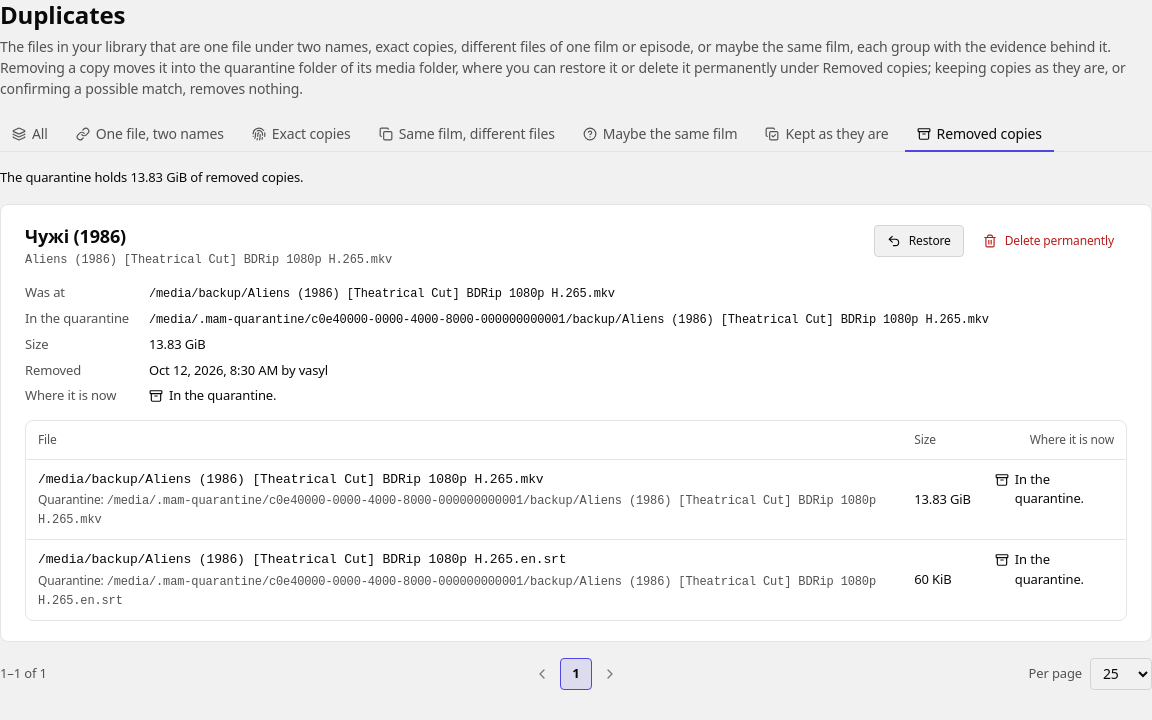
Test: DuplicatesPage Removed copies › puts the copy back by its id, says so above the list, and asks for what it changed again
Click the button "Restore" at (919, 240), box [874, 224, 964, 256]
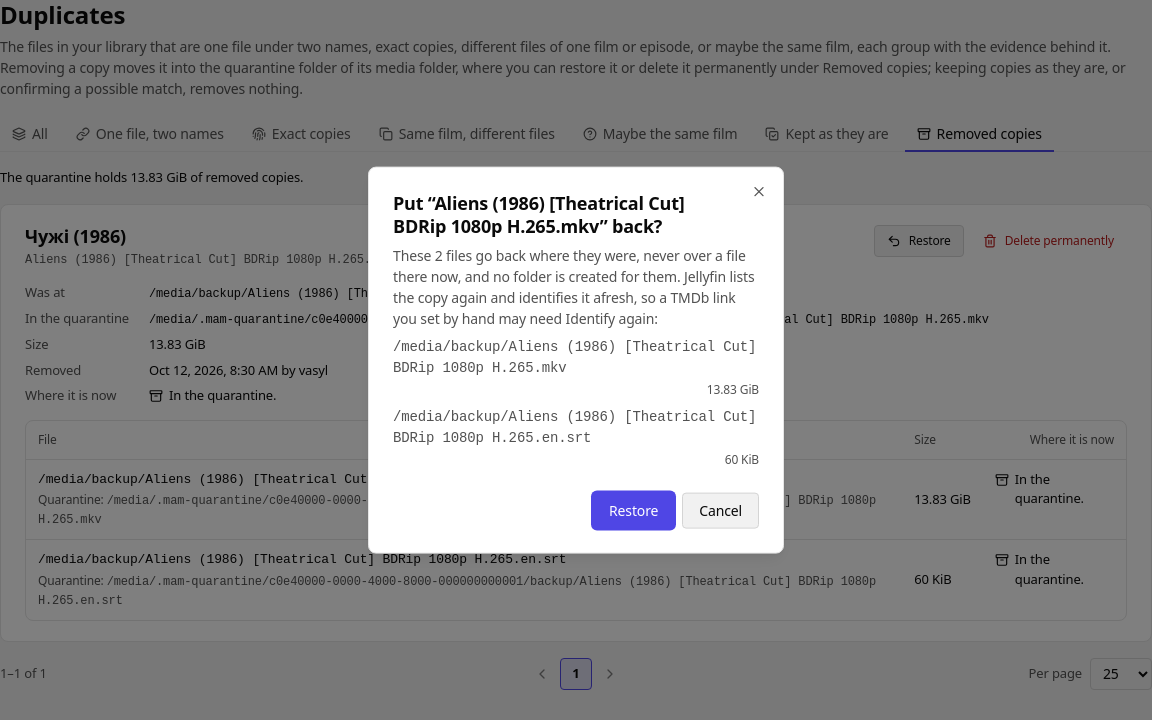
Click the button "Restore" at (634, 510), box [593, 492, 674, 528]
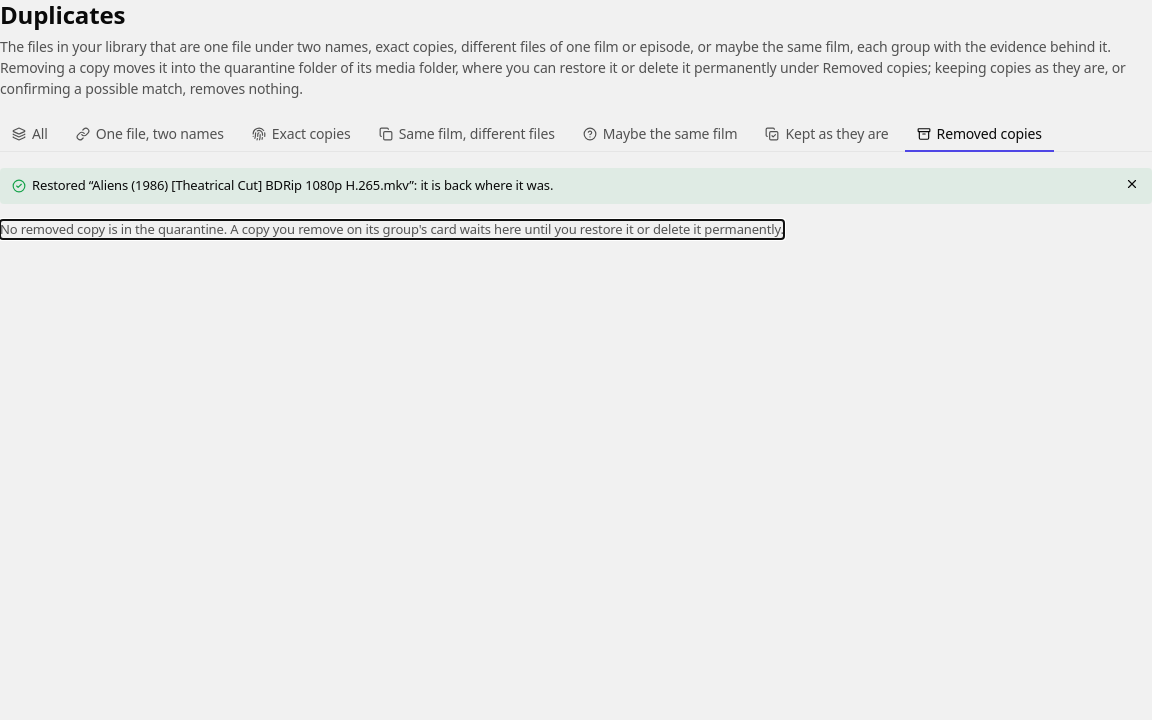
Result: the text "No removed copy is in the quarantine" is shown at [0, 220, 784, 238]
